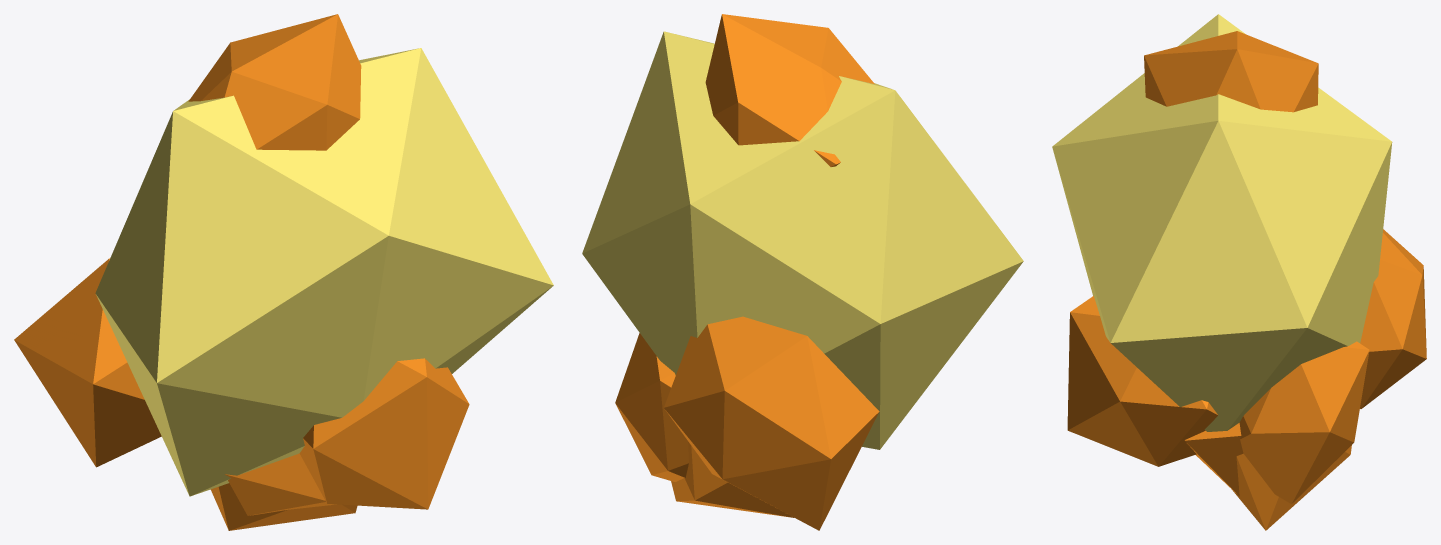
The model's file is frame_3.glb.
3 views of the same model, side by side, from view 1: azimuth 30°, elevation 25°; view 2: azimuth 150°, elevation 25°; view 3: azimuth 270°, elevation 25° (orthographic). The views are drawn at different scales.
Visible parts, largest first — view 1: effect_explosion_large_frame_3; view 2: effect_explosion_large_frame_3; view 3: effect_explosion_large_frame_3.
Part boxes in pixels (x1,y1,x2,y2): effect_explosion_large_frame_3: (14, 14, 553, 530); effect_explosion_large_frame_3: (582, 14, 1023, 530); effect_explosion_large_frame_3: (1052, 14, 1426, 530).
Bounding box in the file's own units: 10.53 × 13.12 × 9.54.
